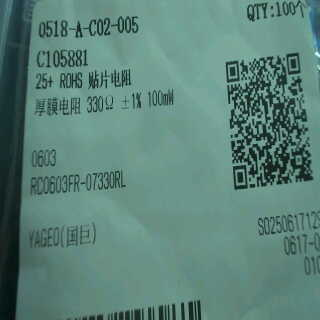330R: (85, 91, 118, 115)
